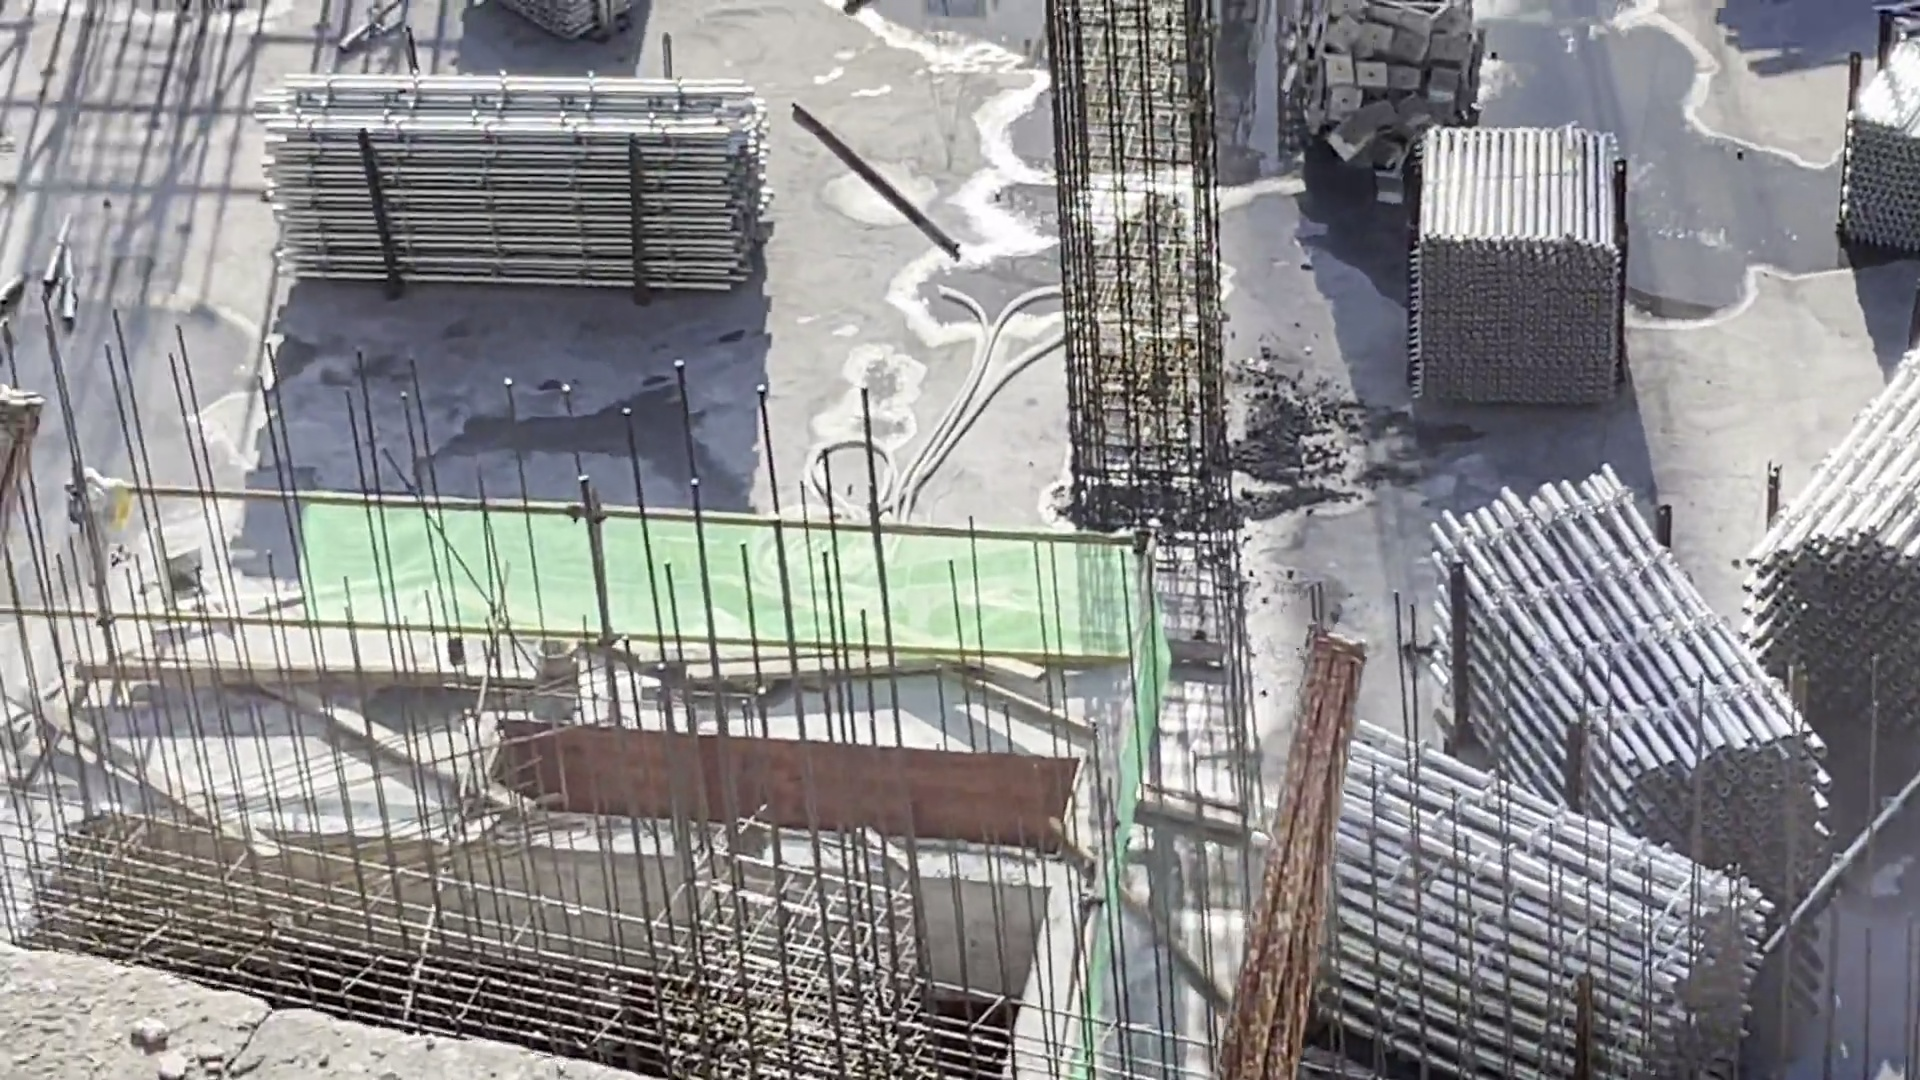scaffold: (1424, 458, 1841, 899), (1303, 719, 1778, 1080), (245, 69, 779, 295), (1734, 332, 1919, 737), (1400, 120, 1642, 410), (1838, 20, 1916, 272)
